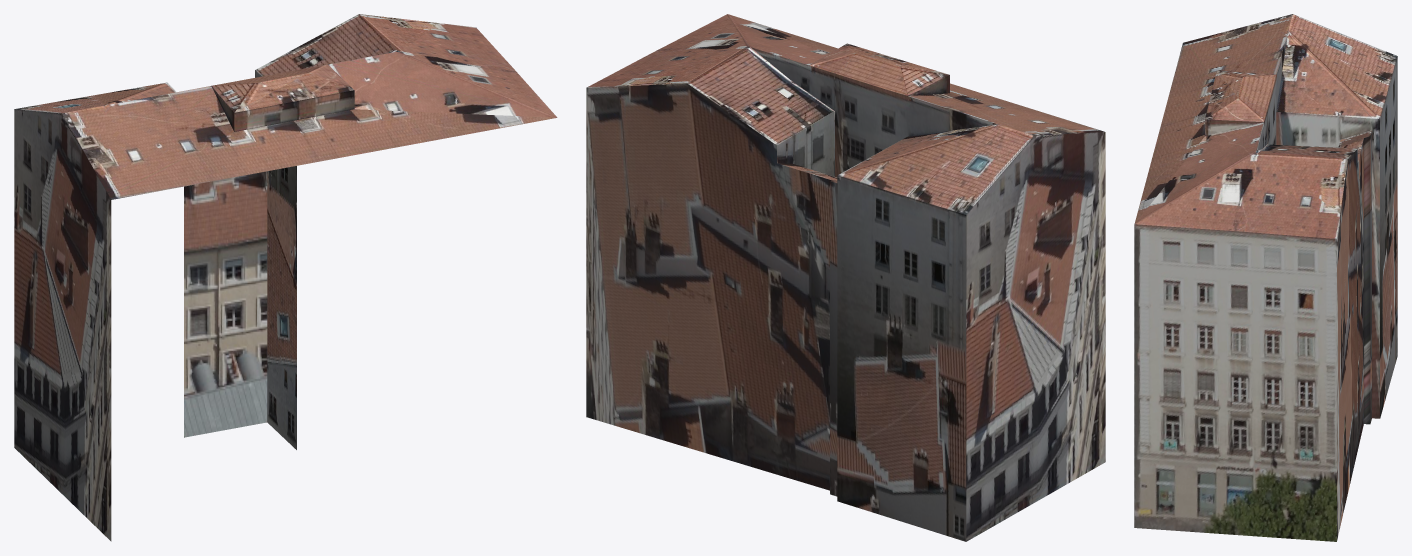
3 views of the same model, side by side, from view 1: azimuth 30°, elevation 25°; view 2: azimuth 150°, elevation 25°; view 3: azimuth 270°, elevation 25° (orthographic). The views are drawn at different scales.
Visible parts, largest first — view 1: Z_UP; view 2: Z_UP; view 3: Z_UP.
Part boxes in pixels (x1,y1,x2,y2): Z_UP: [14, 14, 557, 541]; Z_UP: [586, 14, 1105, 541]; Z_UP: [1134, 14, 1397, 541].
Bounding box in the file's own units: 36.14 × 29.9 × 20.55.
2 materials, 1 textured.
